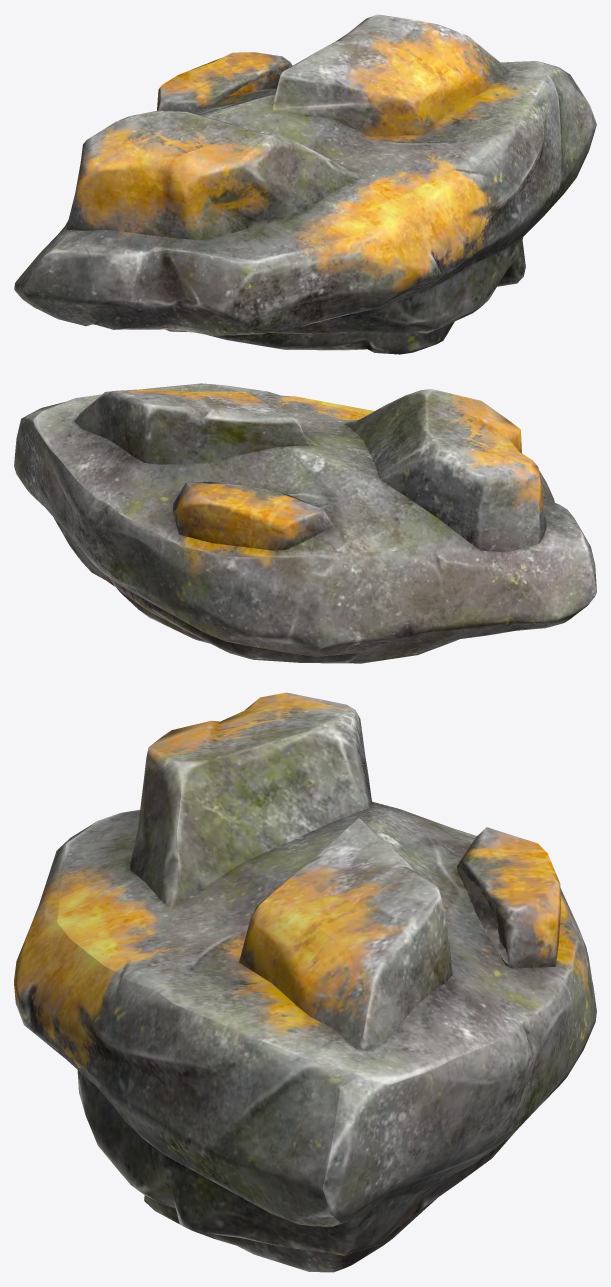
3 views of the same model, one above another, from view 1: azimuth 30°, elevation 25°; view 2: azimuth 150°, elevation 25°; view 3: azimuth 270°, elevation 25° (orthographic). The views are drawn at different scales.
Visible parts, largest first — view 1: SM_Mining_Node_Medium_Gold_02_LOD0; view 2: SM_Mining_Node_Medium_Gold_02_LOD0; view 3: SM_Mining_Node_Medium_Gold_02_LOD0.
Part boxes in pixels (x1=…): SM_Mining_Node_Medium_Gold_02_LOD0: x1=14, y1=14, x2=596, y2=354; SM_Mining_Node_Medium_Gold_02_LOD0: x1=14, y1=383, x2=596, y2=663; SM_Mining_Node_Medium_Gold_02_LOD0: x1=14, y1=692, x2=596, y2=1272.
Bounding box in the file's own units: 3.59 × 1.47 × 2.19.
Materials: 1 (1 with a texture image).
